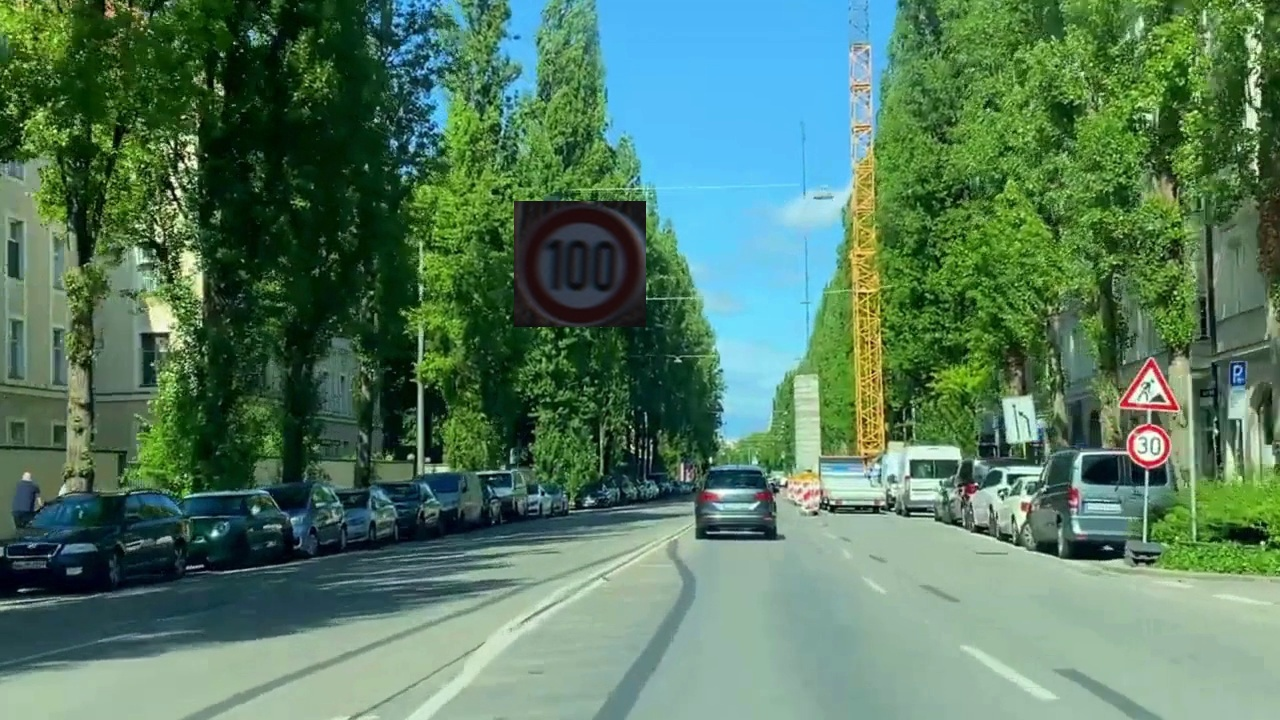Speed 100: (514, 201, 646, 327)
